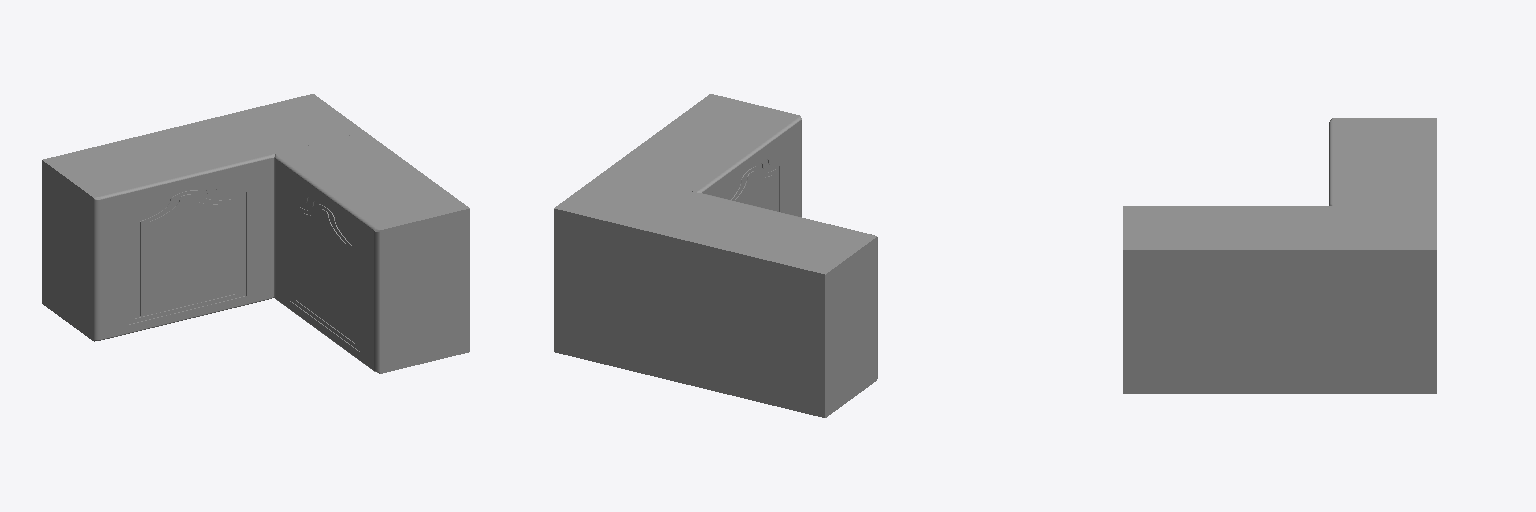
The model's file is corner-base-unit-1150.obj.
3 renders of one model, left to right at view 1: azimuth 30°, elevation 25°; view 2: azimuth 150°, elevation 25°; view 3: azimuth 270°, elevation 25°, orthographic.
Visible parts, largest first — view 1: Cube.003_Cube.008, Cube.004_Cube.000, Cube.005, Cube_Cube.002, Cube.001, Cube.002_Cube.004, Cube.006; view 2: Cube_Cube.002, Cube.006, Cube.001, Cube.002_Cube.004, Cube.004_Cube.000; view 3: Cube.001, Cube.006, Cube_Cube.002, Cube.005.
Boxes of the visible parts, x1=… form: Cube.003_Cube.008: x1=94, y1=154, x2=274, y2=341; Cube.004_Cube.000: x1=274, y1=154, x2=379, y2=373; Cube.005: x1=379, y1=207, x2=469, y2=373; Cube_Cube.002: x1=44, y1=116, x2=274, y2=196; Cube.001: x1=276, y1=132, x2=467, y2=228; Cube.002_Cube.004: x1=42, y1=159, x2=94, y2=340; Cube.006: x1=224, y1=94, x2=364, y2=153; Cube_Cube.002: x1=644, y1=192, x2=873, y2=417; Cube.006: x1=554, y1=171, x2=694, y2=373; Cube.001: x1=606, y1=95, x2=798, y2=191; Cube.002_Cube.004: x1=823, y1=236, x2=876, y2=417; Cube.004_Cube.000: x1=697, y1=116, x2=801, y2=216; Cube.001: x1=1126, y1=206, x2=1332, y2=393; Cube.006: x1=1333, y1=206, x2=1436, y2=393; Cube_Cube.002: x1=1333, y1=119, x2=1436, y2=205; Cube.005: x1=1123, y1=206, x2=1125, y2=393.
Bounding box in the file's own units: 344 × 174 × 344.